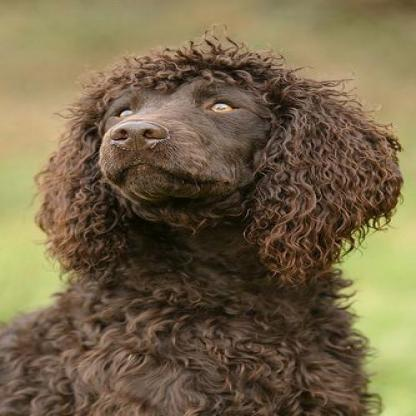Irish_water_spaniel: (0, 21, 399, 413)
